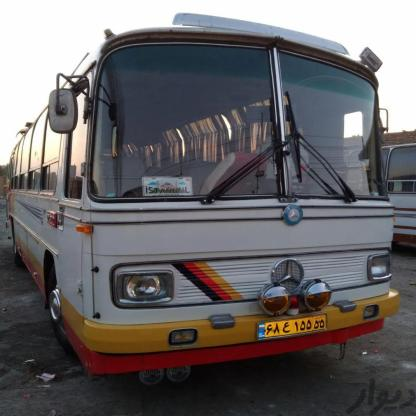Bus: (0, 4, 400, 363), (381, 132, 416, 242)
